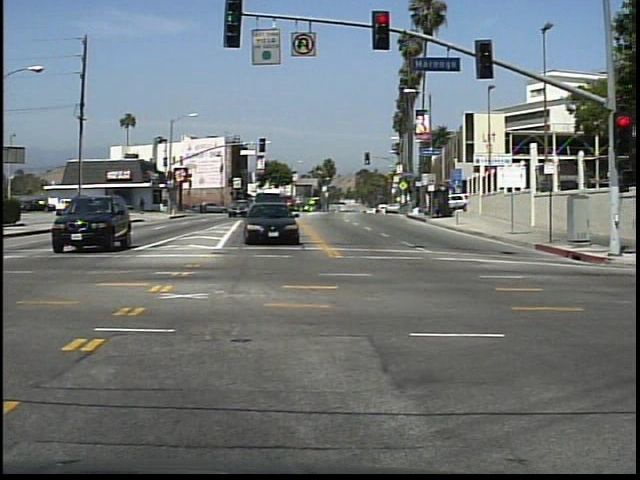person: (139, 195, 150, 216)
